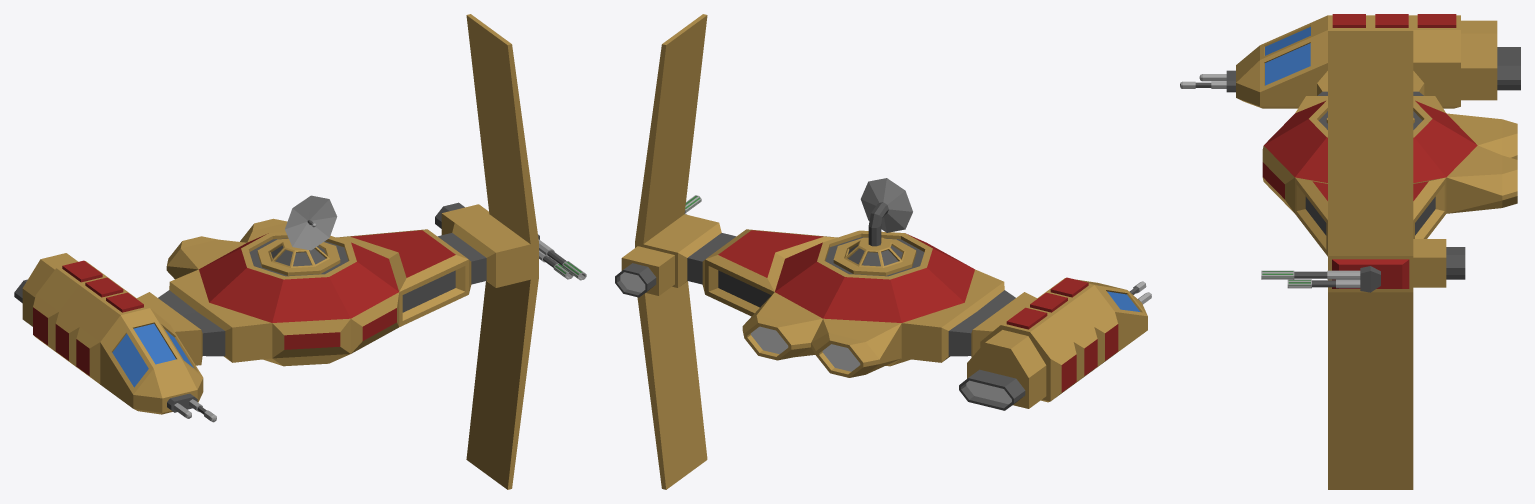
Rendered from spaceship_3.fbx.
The picture shows the model from 3 angles, left to right: view 1: azimuth 30°, elevation 25°; view 2: azimuth 150°, elevation 25°; view 3: azimuth 270°, elevation 25°; orthographic projection. The views are drawn at different scales.
Parts seen in each view (by area): view 1: spaceship_3; view 2: spaceship_3; view 3: spaceship_3.
Part boxes in pixels (left/top/right/bottom): spaceship_3: left=14, top=14, right=586, bottom=489; spaceship_3: left=615, top=14, right=1151, bottom=489; spaceship_3: left=1180, top=14, right=1520, bottom=489.
Size of the model in its own units: 1.3 by 1.2 by 0.8044.
